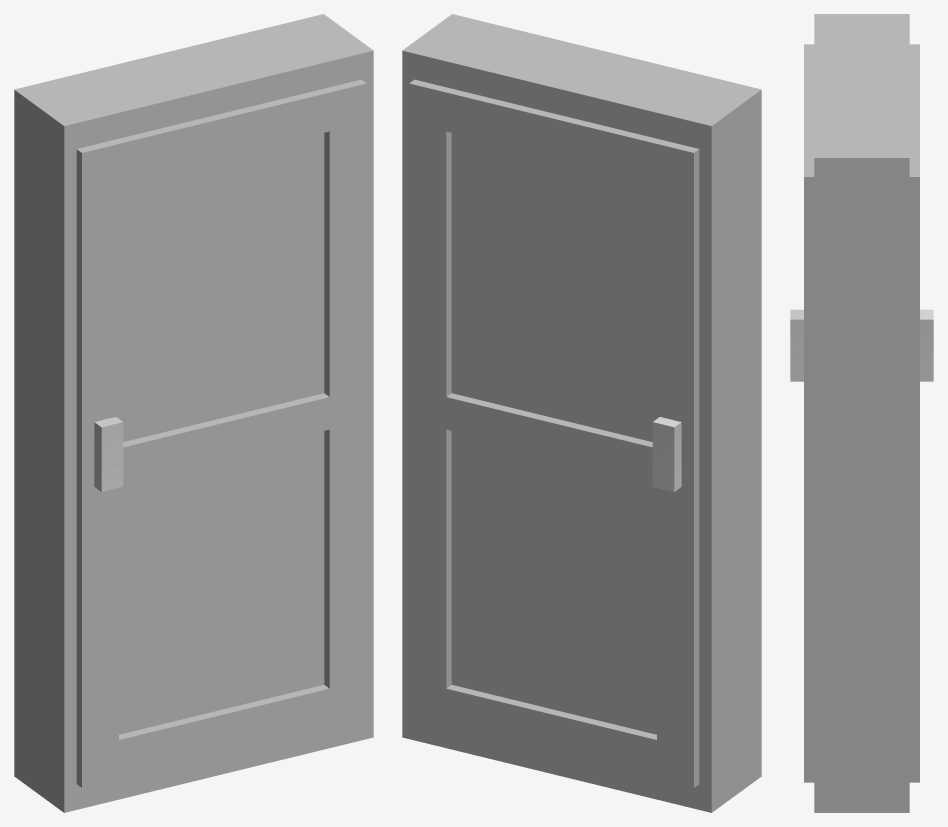
File: door_leaf.obj
3 views of the same model, side by side, from view 1: azimuth 30°, elevation 25°; view 2: azimuth 150°, elevation 25°; view 3: azimuth 270°, elevation 25° (orthographic). The views are drawn at different scales.
Parts seen in each view (by area): view 1: door_leaf; view 2: door_leaf; view 3: door_leaf.
Part boxes in pixels (<box>): door_leaf: <box>14,14,373,812</box>; door_leaf: <box>402,14,761,812</box>; door_leaf: <box>790,14,933,812</box>.
Size of the model in its own units: 0.5 by 1.06 by 0.21.
